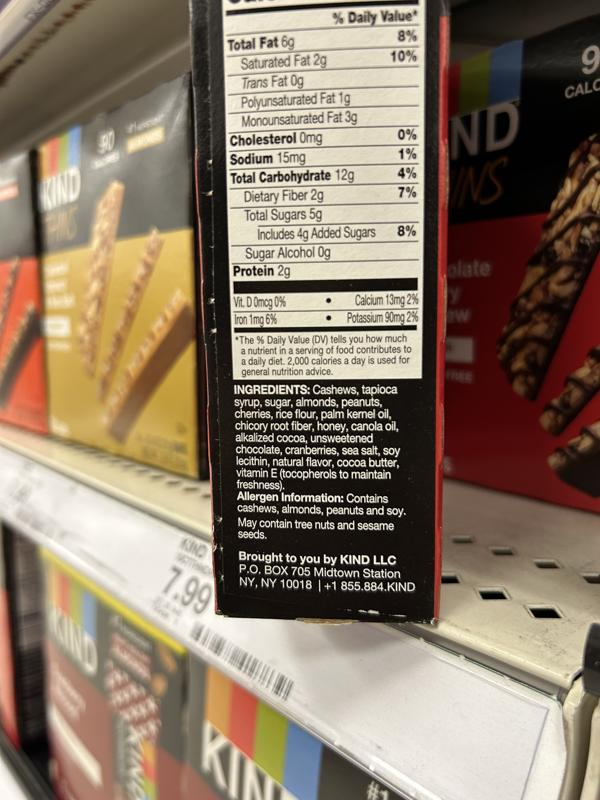ingredients: (231, 382, 404, 492)
